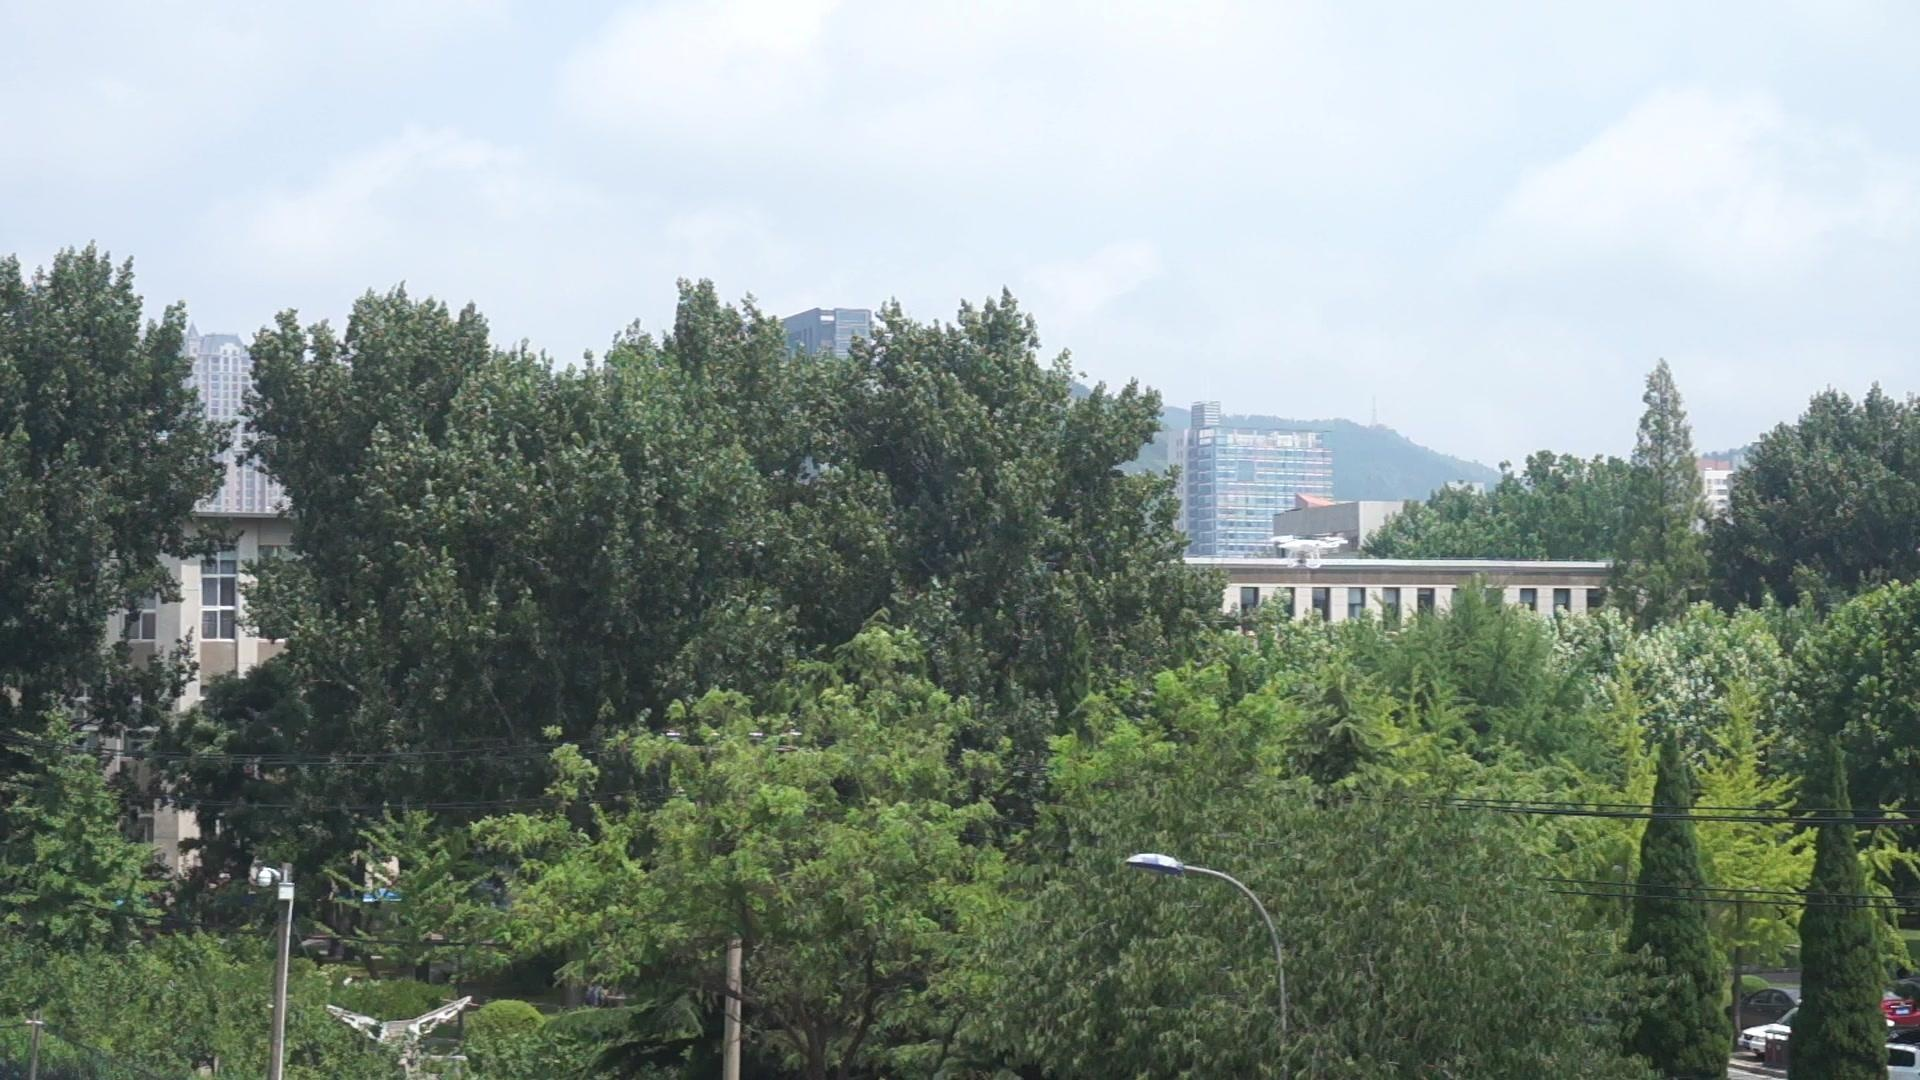UAV: (1273, 537, 1350, 568)
